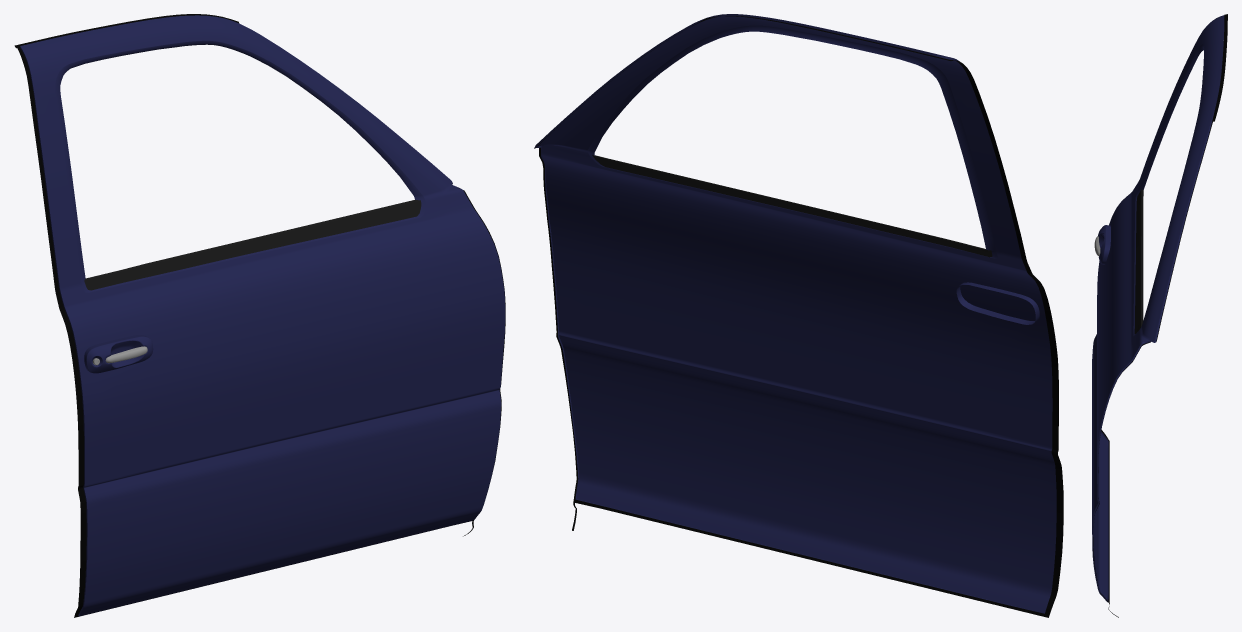
3 renders of one model, left to right at view 1: azimuth 30°, elevation 25°; view 2: azimuth 150°, elevation 25°; view 3: azimuth 270°, elevation 25°, orthographic. The views are drawn at different scales.
Parts seen in each view (by area): view 1: U803_3A_281B_R_U803_3A_281B_R_1_DaS, U803_3A_281B_R_U803_3A_281B_R_1_DaS_E, U803_3A_281B_R_U803_3A_281B_R_3_D, U803_3A_281B_R_U803_3A_281B_R_4_D; view 2: U803_3A_281B_R_U803_3A_281B_R_1_DaS, U803_3A_281B_R_U803_3A_281B_R_1_DaS_E, U803_3A_281B_R_U803_3A_281B_R_4_D, U803_3A_281B_R_U803_3A_281B_R_3_D; view 3: U803_3A_281B_R_U803_3A_281B_R_1_DaS, U803_3A_281B_R_U803_3A_281B_R_1_DaS_E, U803_3A_281B_R_U803_3A_281B_R_4_D, U803_3A_281B_R_U803_3A_281B_R_3_D.
Part boxes in pixels (x1=…): U803_3A_281B_R_U803_3A_281B_R_1_DaS: x1=20, y1=15, x2=505, y2=616; U803_3A_281B_R_U803_3A_281B_R_1_DaS_E: x1=20, y1=40, x2=460, y2=616; U803_3A_281B_R_U803_3A_281B_R_3_D: x1=84, y1=199, x2=421, y2=290; U803_3A_281B_R_U803_3A_281B_R_4_D: x1=14, y1=14, x2=505, y2=617; U803_3A_281B_R_U803_3A_281B_R_1_DaS: x1=538, y1=16, x2=1056, y2=613; U803_3A_281B_R_U803_3A_281B_R_1_DaS_E: x1=534, y1=14, x2=1043, y2=613; U803_3A_281B_R_U803_3A_281B_R_4_D: x1=534, y1=16, x2=1063, y2=617; U803_3A_281B_R_U803_3A_281B_R_3_D: x1=592, y1=154, x2=992, y2=257; U803_3A_281B_R_U803_3A_281B_R_1_DaS: x1=1092, y1=15, x2=1223, y2=599; U803_3A_281B_R_U803_3A_281B_R_1_DaS_E: x1=1092, y1=15, x2=1224, y2=602; U803_3A_281B_R_U803_3A_281B_R_4_D: x1=1093, y1=14, x2=1227, y2=617; U803_3A_281B_R_U803_3A_281B_R_3_D: x1=1134, y1=189, x2=1143, y2=333.
Size of the model in its own units: 108 by 129 by 35.57.
